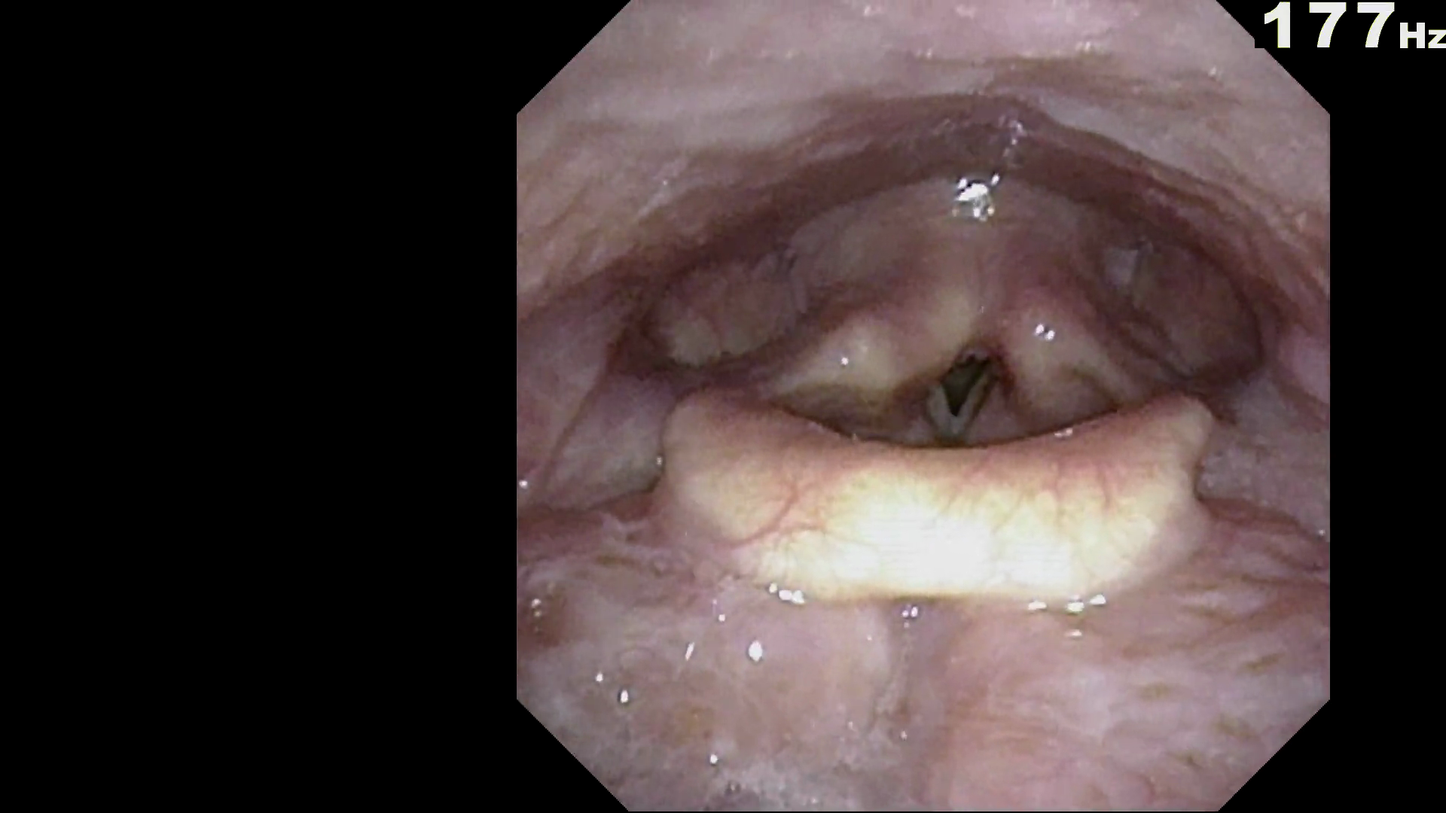epiglottis: (660, 372, 1206, 599)
trachea: (900, 297, 1039, 473), (926, 322, 1017, 445)
